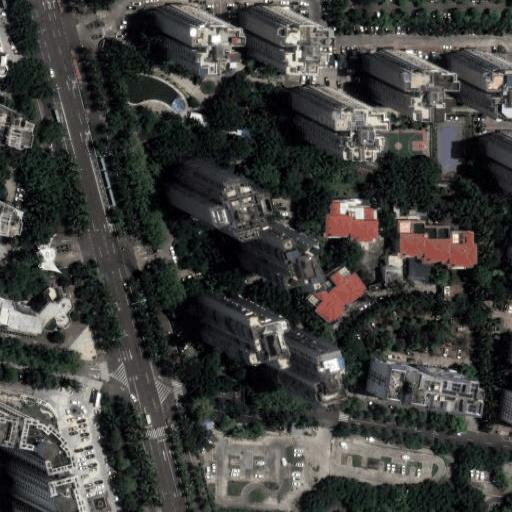building: (369, 355, 475, 407), (393, 206, 477, 270), (178, 170, 244, 230), (281, 90, 340, 155), (0, 425, 58, 485), (108, 64, 180, 111), (20, 282, 88, 330), (443, 54, 504, 103), (356, 50, 412, 100), (153, 4, 209, 53), (230, 11, 285, 59), (200, 293, 247, 349), (265, 328, 306, 386), (250, 226, 291, 279), (306, 282, 349, 326), (327, 264, 369, 308), (479, 135, 512, 184), (0, 88, 37, 131), (22, 481, 67, 512), (350, 198, 378, 242), (322, 198, 350, 238), (0, 286, 29, 318), (31, 240, 58, 272), (490, 384, 512, 422), (0, 192, 19, 230), (497, 223, 512, 268), (407, 256, 432, 279), (383, 256, 403, 284), (437, 279, 462, 299), (498, 333, 512, 368)
